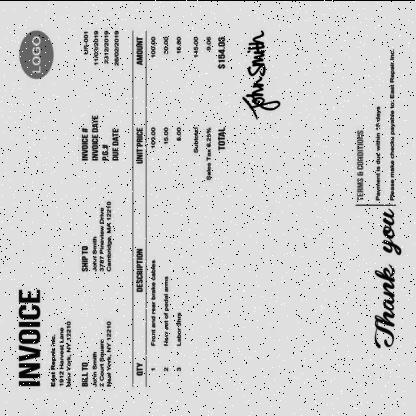Paragraph: (355, 46, 396, 202), (191, 34, 227, 182), (80, 29, 120, 161), (17, 287, 41, 388), (80, 200, 112, 272), (81, 320, 112, 388), (50, 319, 72, 387)
Table: (132, 30, 186, 388)
